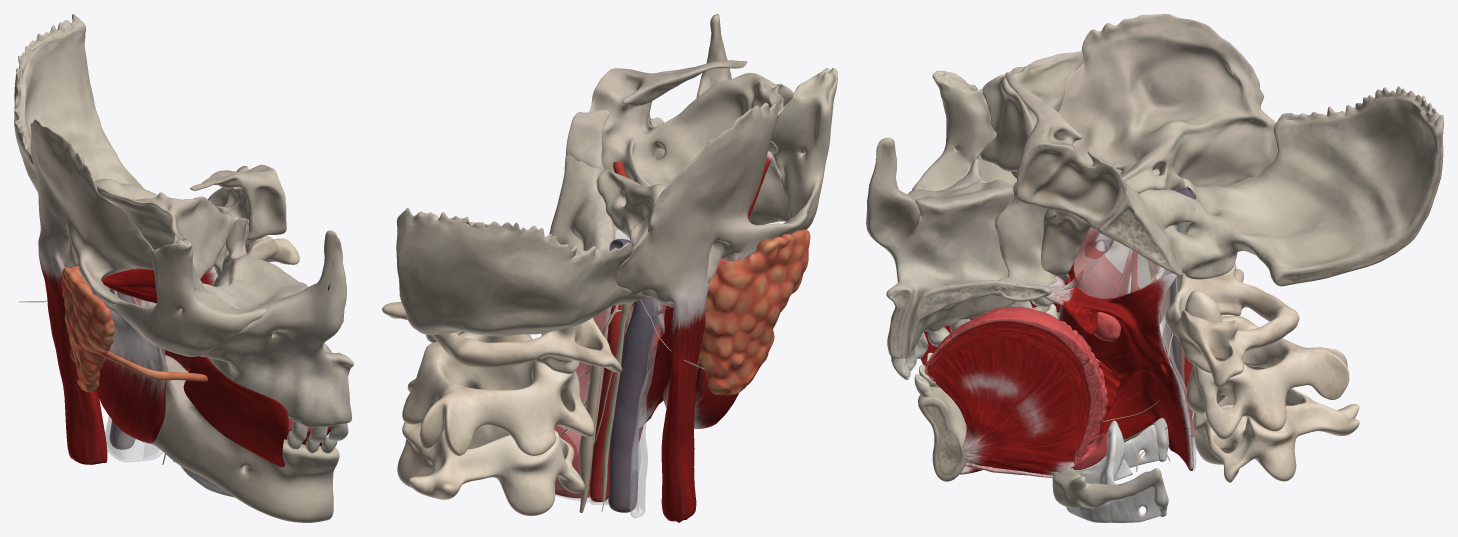
Rendered from parapharyngeal.glb.
3 renders of one model, left to right at view 1: azimuth 30°, elevation 25°; view 2: azimuth 150°, elevation 25°; view 3: azimuth 270°, elevation 25°, orthographic. The views are drawn at different scales.
Visible parts, largest first — view 1: _skull_bones_and_other_muscless2_3, Palatine_maxilla_and_teeth_1, Spehnoid_and_lateral_pterygoid_1, Occipital_1, Pharynx_3, Parotid, Carotid_fascia_and_alar, Cervical_vertebrae, Parapharyngeal_vessels_1, Mandibular_teeth; view 2: _skull_bones_and_other_muscless2_3, Cervical_vertebrae, Occipital_1, Spehnoid_and_lateral_pterygoid_1, Parotid, Parapharyngeal_vessels_1, Carotid_fascia_and_alar, Palatine_maxilla_and_teeth_1, Pharynx_3, Stylo_muscles_1, Cervical_nerve; view 3: _skull_bones_and_other_muscless2_3, Occipital_1, Cervical_vertebrae, Palatine_maxilla_and_teeth_1, Genioglossus, Spehnoid_and_lateral_pterygoid_1, Pharynx_3, Top_half_larynx, Pharyngobasilar_fascia, Thyrohyoid_membrane, Carotid_fascia_and_alar, Parapharyngeal_vessels_1 (+4 smaller).
Part boxes in pixels (<box>): _skull_bones_and_other_muscless2_3: <box>30,119,339,522</box>; Palatine_maxilla_and_teeth_1: <box>200,218,353,442</box>; Spehnoid_and_lateral_pterygoid_1: <box>97,164,286,303</box>; Occipital_1: <box>14,14,211,201</box>; Pharynx_3: <box>183,356,288,467</box>; Parotid: <box>61,266,207,392</box>; Carotid_fascia_and_alar: <box>105,268,162,462</box>; Cervical_vertebrae: <box>141,235,299,306</box>; Parapharyngeal_vessels_1: <box>19,268,165,464</box>; Mandibular_teeth: <box>287,431,337,453</box>; _skull_bones_and_other_muscless2_3: <box>597,68,837,522</box>; Cervical_vertebrae: <box>382,302,622,515</box>; Occipital_1: <box>396,155,644,336</box>; Spehnoid_and_lateral_pterygoid_1: <box>566,60,793,217</box>; Parotid: <box>698,229,810,395</box>; Parapharyngeal_vessels_1: <box>578,161,705,512</box>; Carotid_fascia_and_alar: <box>541,229,666,518</box>; Palatine_maxilla_and_teeth_1: <box>614,14,789,239</box>; Pharynx_3: <box>542,235,673,498</box>; Stylo_muscles_1: <box>638,317,672,442</box>; Cervical_nerve: <box>559,305,621,512</box>; _skull_bones_and_other_muscless2_3: <box>912,14,1277,481</box>; Occipital_1: <box>1098,86,1443,286</box>; Cervical_vertebrae: <box>1165,262,1359,482</box>; Palatine_maxilla_and_teeth_1: <box>866,137,1057,379</box>; Genioglossus: <box>924,306,1108,472</box>; Spehnoid_and_lateral_pterygoid_1: <box>980,51,1127,281</box>; Pharynx_3: <box>920,250,1193,470</box>; Top_half_larynx: <box>1052,418,1169,516</box>; Pharyngobasilar_fascia: <box>1073,227,1171,298</box>; Thyrohyoid_membrane: <box>1066,425,1161,522</box>; Carotid_fascia_and_alar: <box>1157,222,1196,470</box>; Parapharyngeal_vessels_1: <box>1103,185,1196,471</box>.
Size of the model in its own units: 87.07 by 111 by 144.
Materials: 19 (18 with a texture image).
